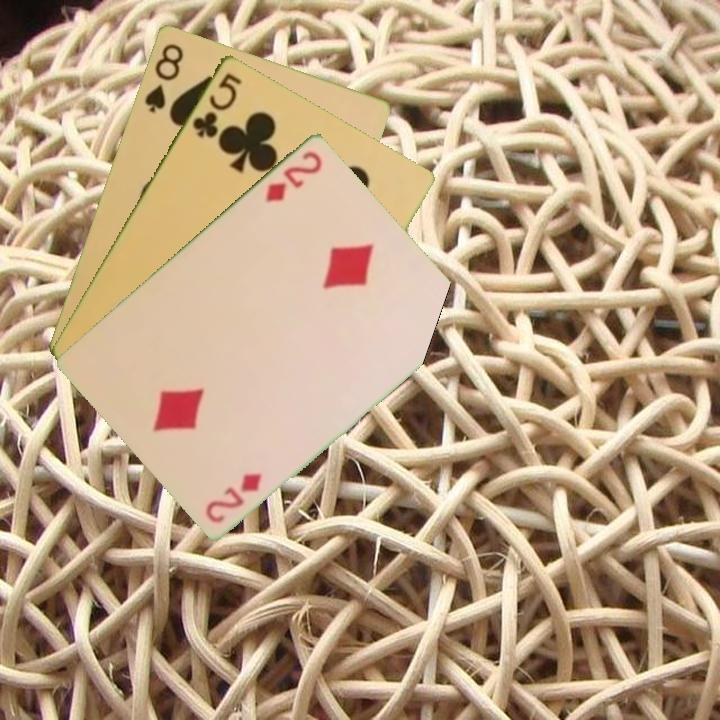2d: (261, 146, 326, 205), (201, 468, 265, 526)
5c: (188, 68, 245, 141)
8s: (140, 39, 186, 115)
